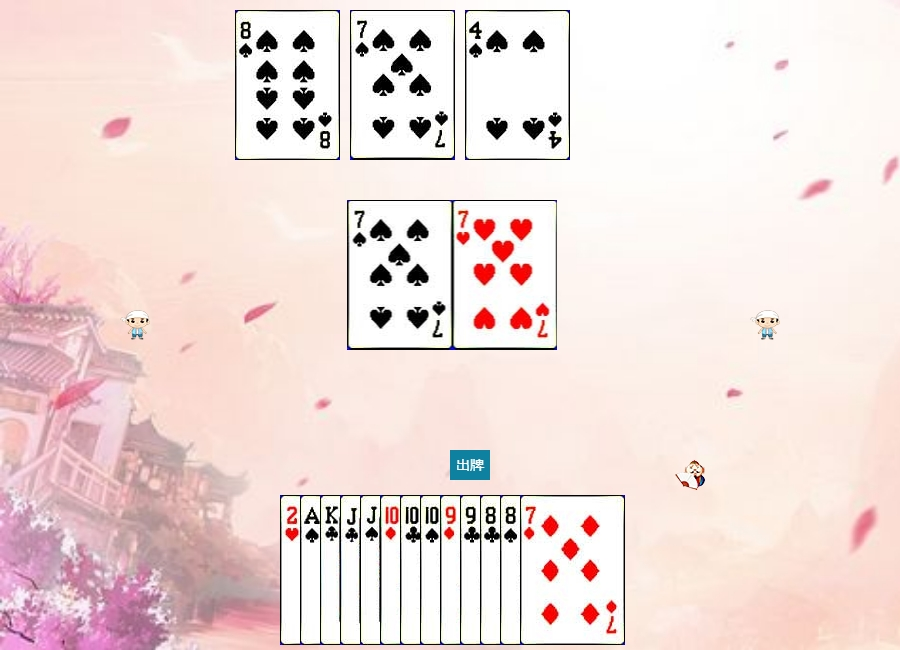10~1: (380, 495, 485, 645)
10~2: (400, 495, 505, 645)
10~4: (420, 495, 525, 645)
11~2: (340, 495, 445, 645)
11~4: (360, 495, 465, 645)
13~2: (320, 495, 425, 645)
14~4: (300, 495, 405, 645)
15~3: (280, 495, 385, 645)
4~4: (465, 10, 570, 160)
7~1: (520, 495, 625, 645)
7~3: (453, 200, 558, 350)
7~4: (350, 10, 455, 160), (348, 200, 453, 350)
8~2: (480, 495, 585, 645)
8~4: (235, 10, 340, 160), (500, 495, 605, 645)
9~1: (440, 495, 545, 645)
9~2: (460, 495, 565, 645)
